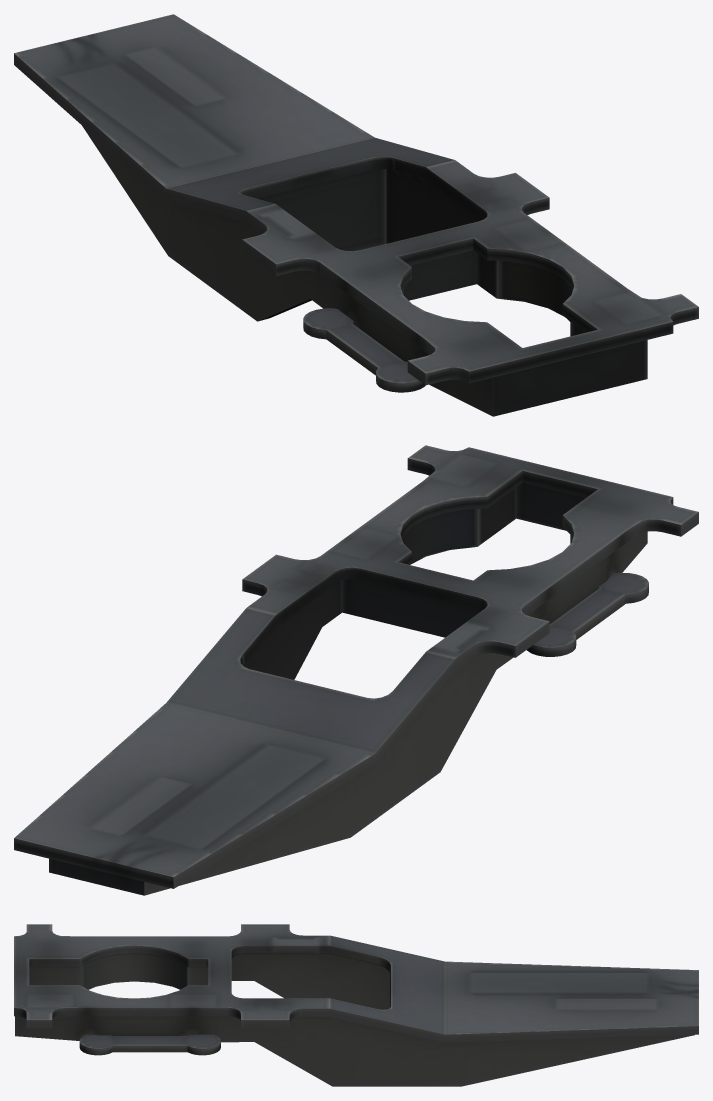
The model's file is windpowergenerator_inside_2001_11.obj.
The picture shows the model from 3 angles, top to bottom: view 1: azimuth 30°, elevation 25°; view 2: azimuth 150°, elevation 25°; view 3: azimuth 270°, elevation 25°; orthographic projection. The views are drawn at different scales.
Parts seen in each view (by area): view 1: polySurface243; view 2: polySurface243; view 3: polySurface243.
Part boxes in pixels (box(x1,y1,x2,y2)): polySurface243: box(14, 14, 698, 416); polySurface243: box(14, 445, 698, 895); polySurface243: box(14, 924, 698, 1086).
Bounding box in the file's own units: 419 × 169 × 1266.
1 material, 1 textured.
